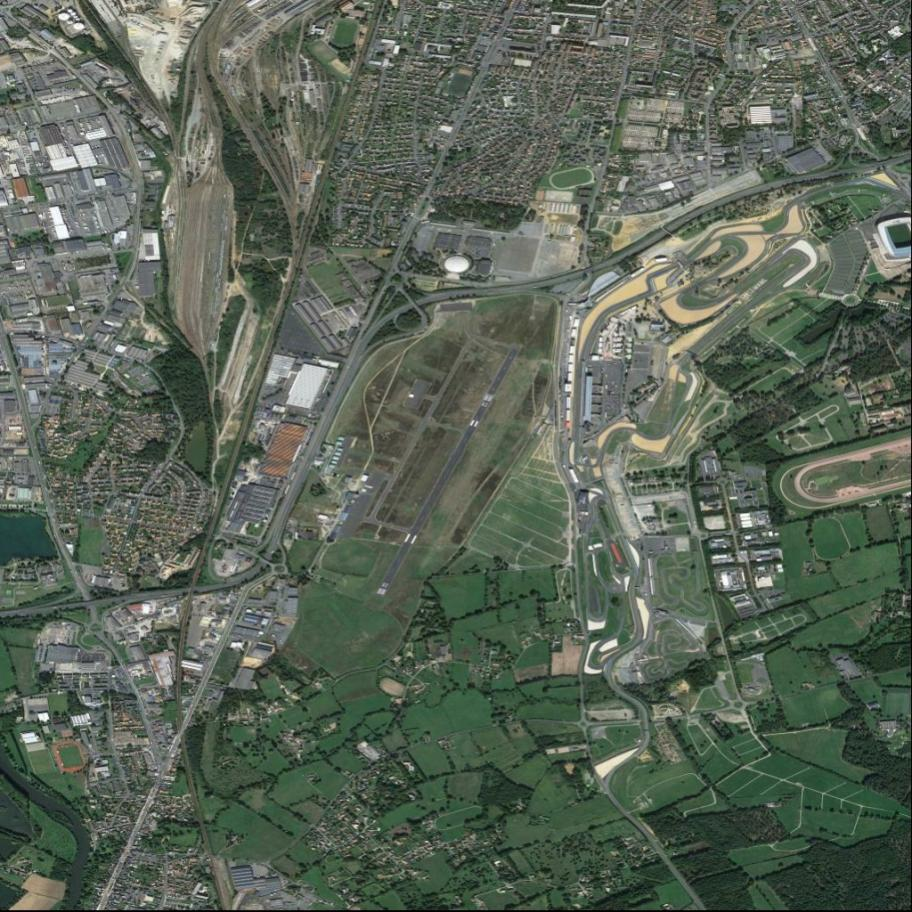storage-tank: (444, 253, 470, 274)
